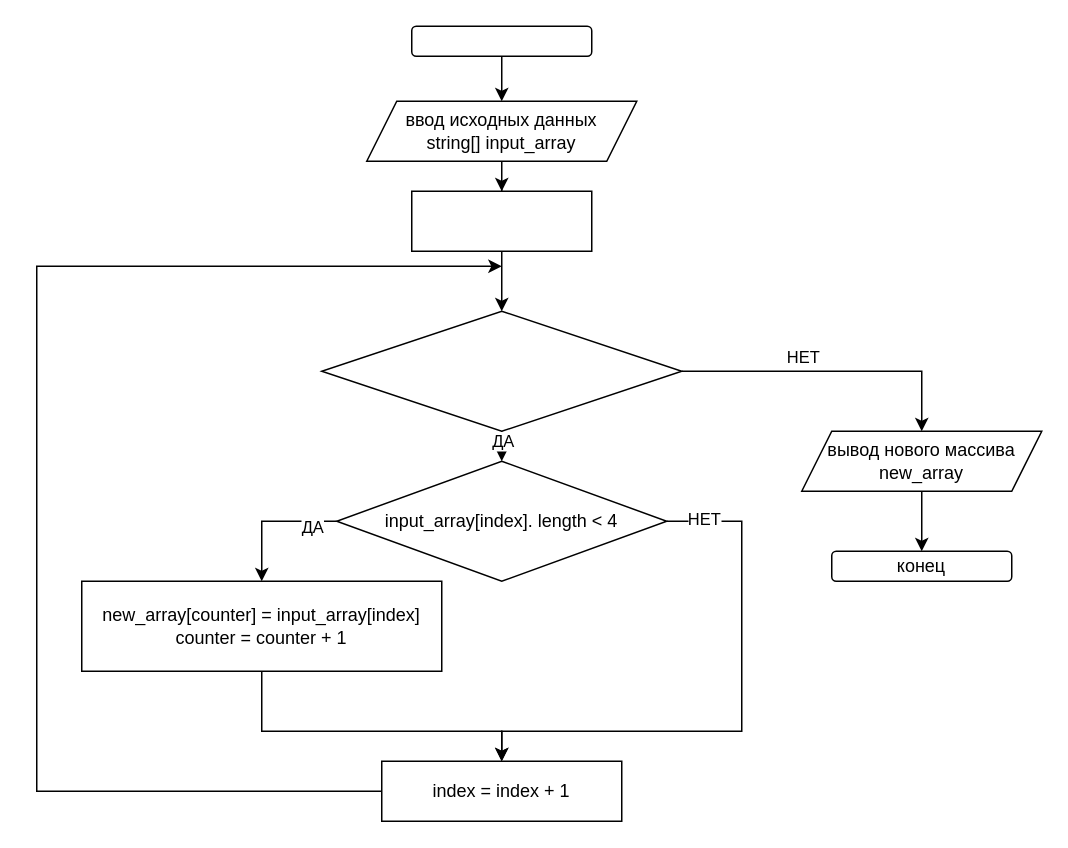
This 1068x848 diagram has some shape labels left out. The shapes that lost their labels are listed below. From the top down, each one's centre as x and y in pixels, then its label:
At [501,40]: "начало".
At [501,220]: "index = 0 counter = 0".
At [501,370]: "index < input_array.length".
